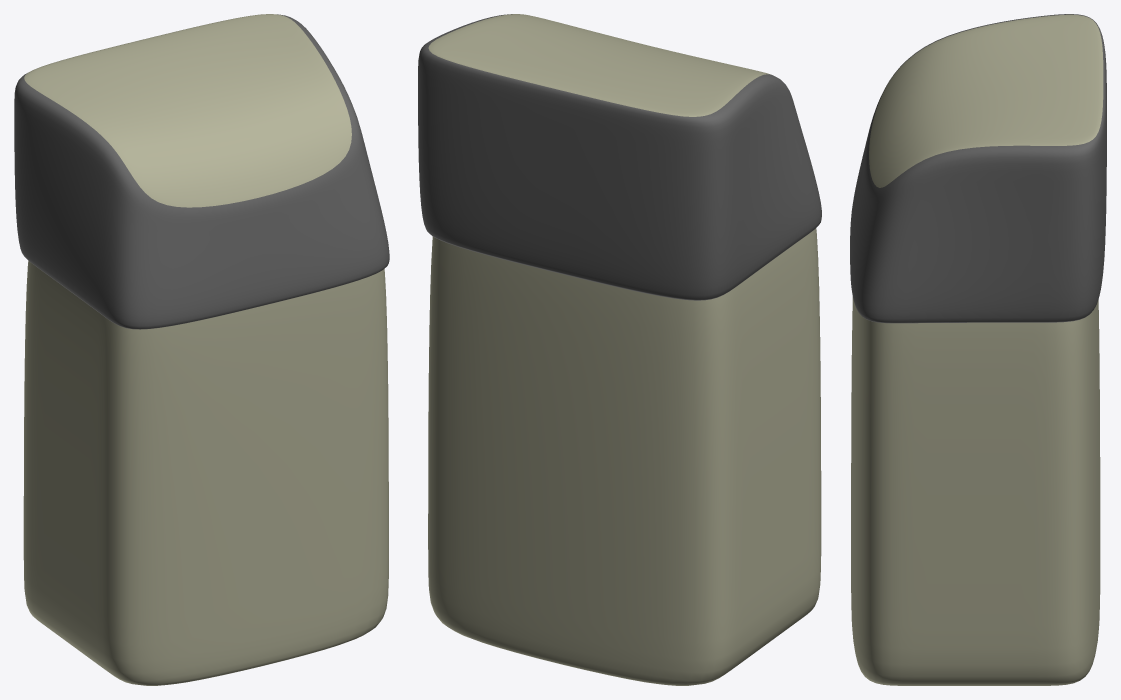
File: Bucket.fbx
3 renders of one model, left to right at view 1: azimuth 30°, elevation 25°; view 2: azimuth 150°, elevation 25°; view 3: azimuth 270°, elevation 25°, orthographic. The views are drawn at different scales.
Parts seen in each view (by area): view 1: Bucket, Cap; view 2: Bucket, Cap; view 3: Bucket, Cap.
Boxes of the visible parts, left/top/right/bottom form: Bucket: left=23, top=260, right=388, bottom=685; Cap: left=14, top=14, right=389, bottom=329; Bucket: left=428, top=228, right=821, bottom=685; Cap: left=418, top=14, right=821, bottom=300; Bucket: left=851, top=296, right=1100, bottom=685; Cap: left=850, top=14, right=1106, bottom=323.
Size of the model in its own units: 3083 by 5578 by 2365.
